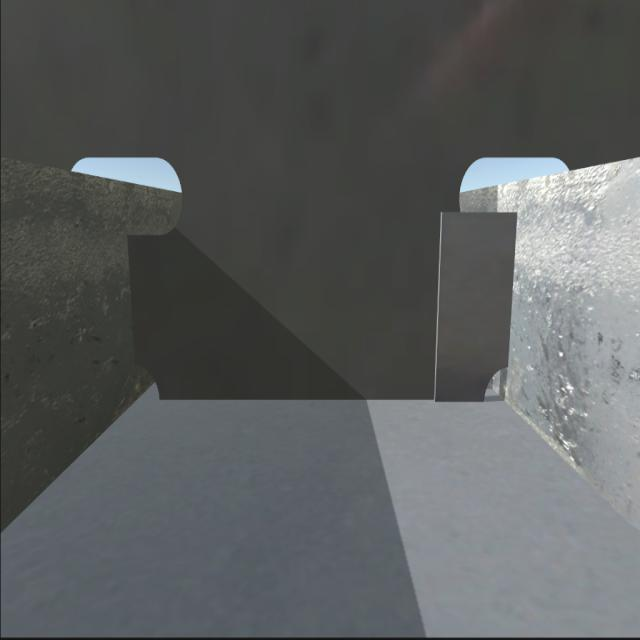fillet_hole: (481, 365, 510, 403), (131, 371, 161, 400)
fillet_yong_jeop_jang: (155, 396, 482, 409)
longi_yong_jeop_jang: (508, 209, 522, 366), (125, 234, 138, 361)
plate_CP01: (440, 211, 515, 401)
